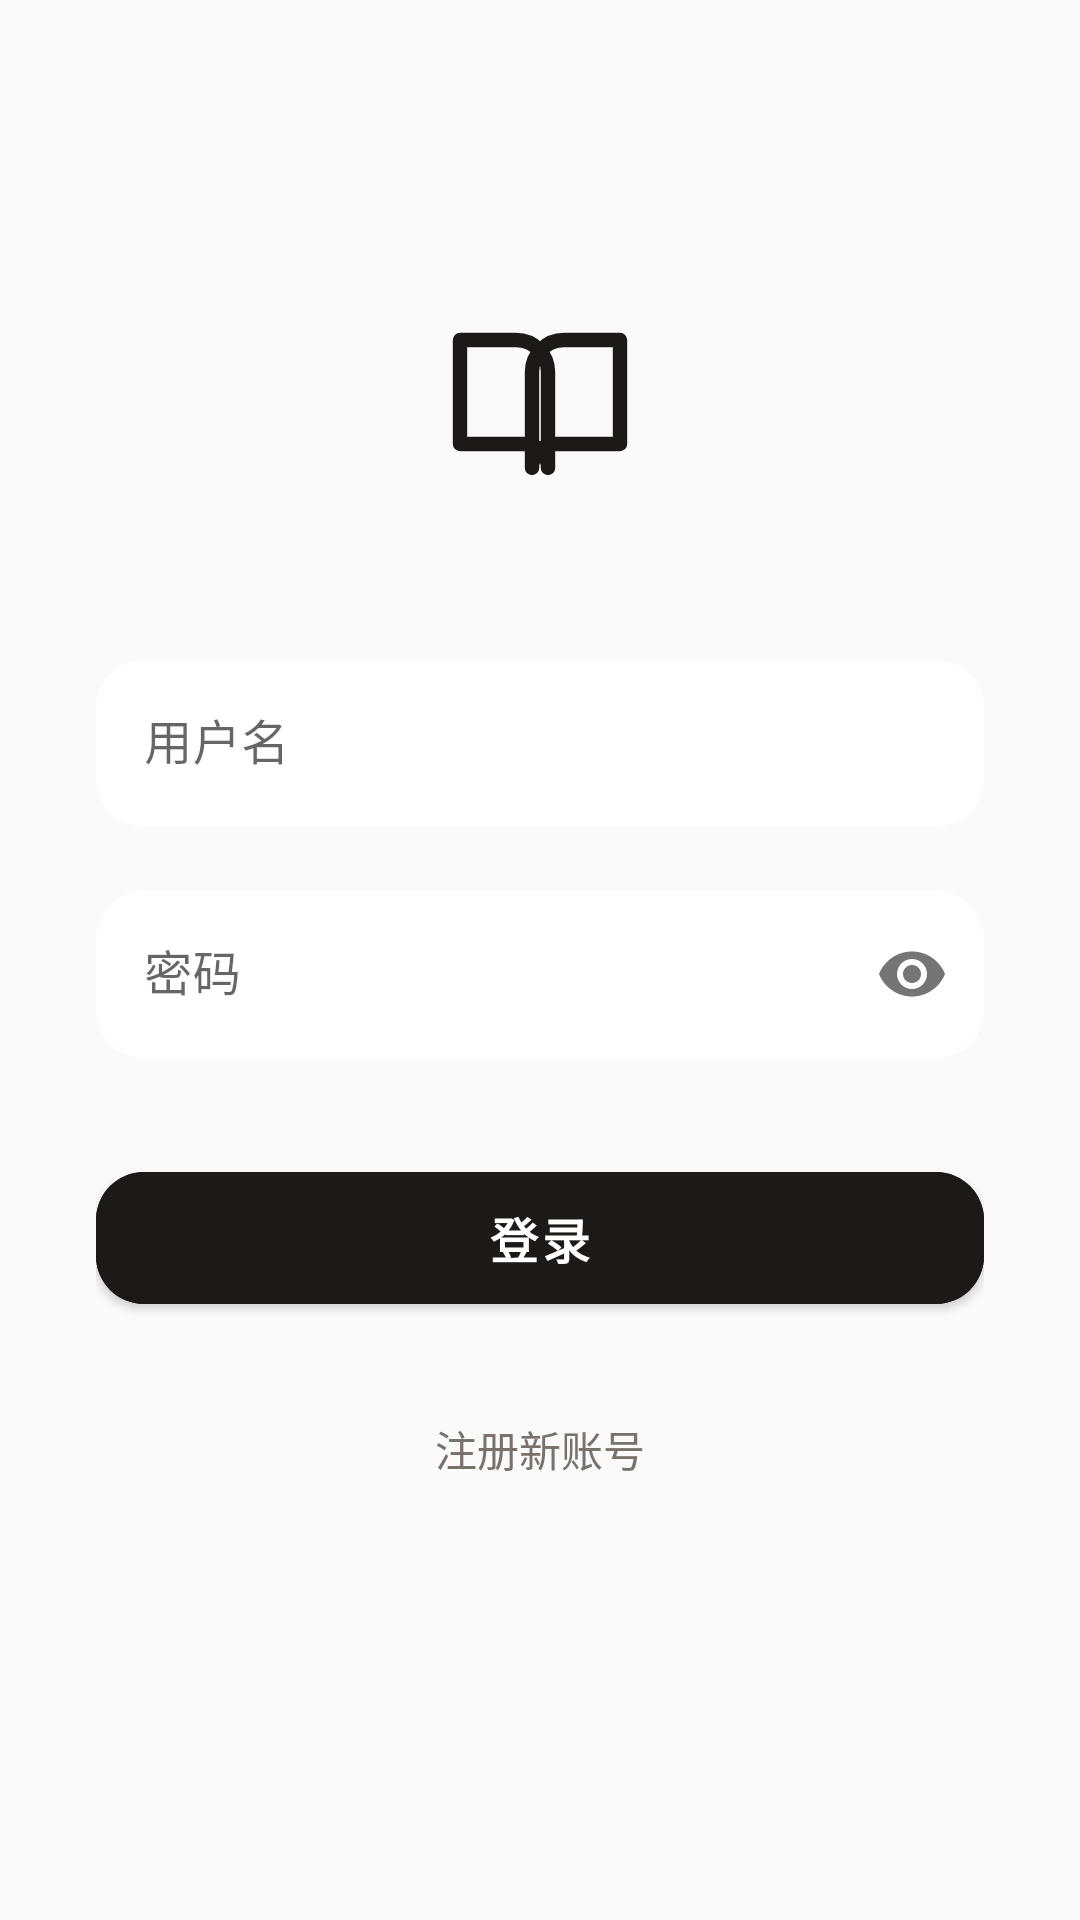

Screen size 1080 × 1920. Icon name, then its box in pixels as (x1, y1, x2, y2):
book: (452, 332, 628, 476)
